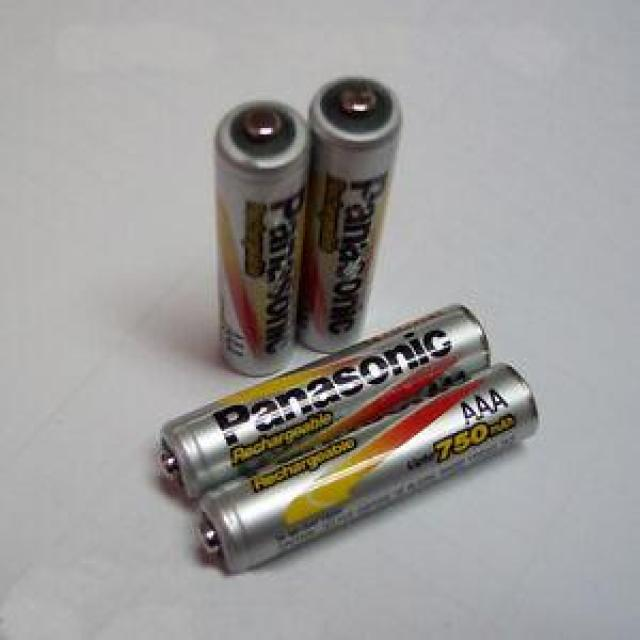battery: (196, 360, 543, 578), (158, 305, 492, 503), (211, 98, 315, 379), (299, 70, 401, 356)
